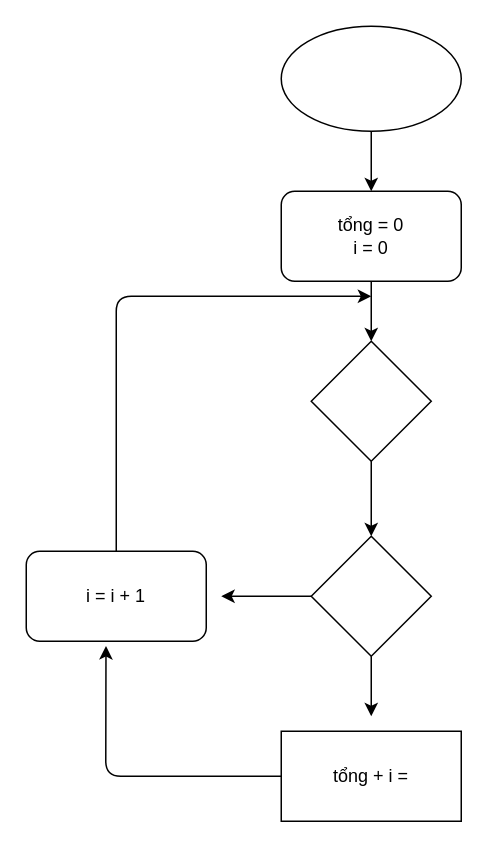
Image size: 488x848. Some labels were removed from this diagram. Here are the shapes that lost their labels. From the top down, the box of each, then its label:
(310, 340, 431, 461): i < n
(310, 535, 431, 656): i mod 2 ==0
